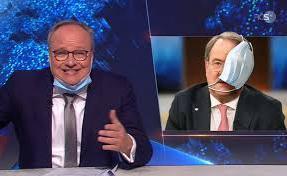mask_weared_incorrect: (205, 44, 250, 96), (51, 36, 89, 95)
